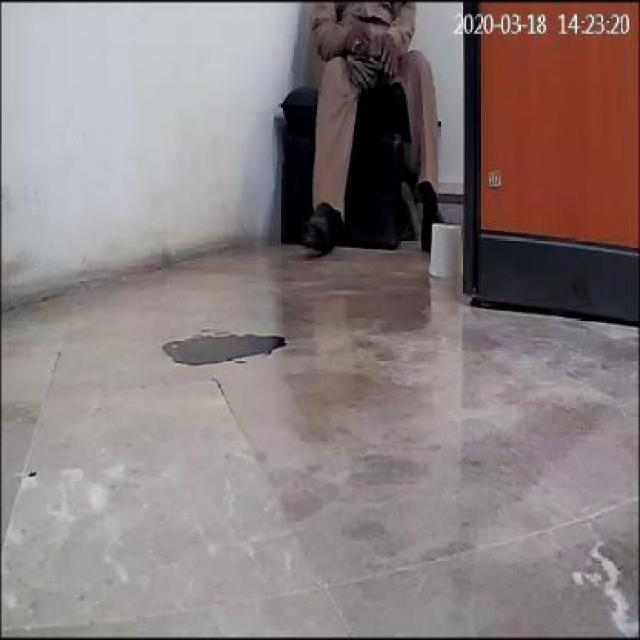spill: (158, 326, 282, 364)
